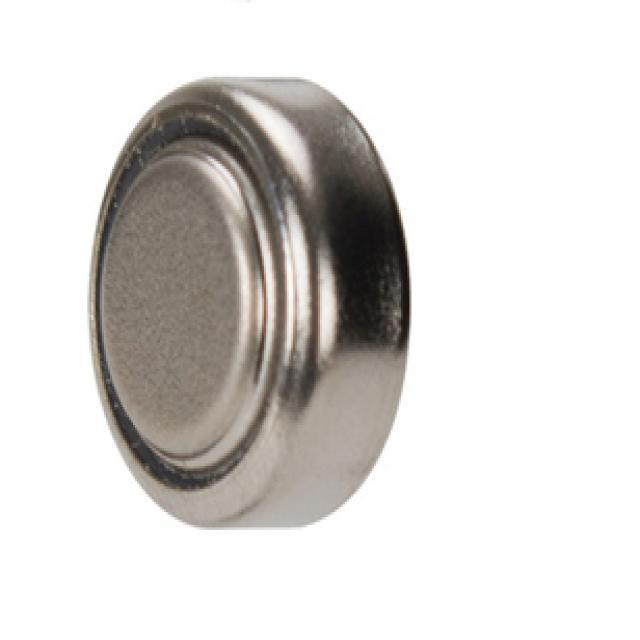COIN: (86, 72, 412, 530)
